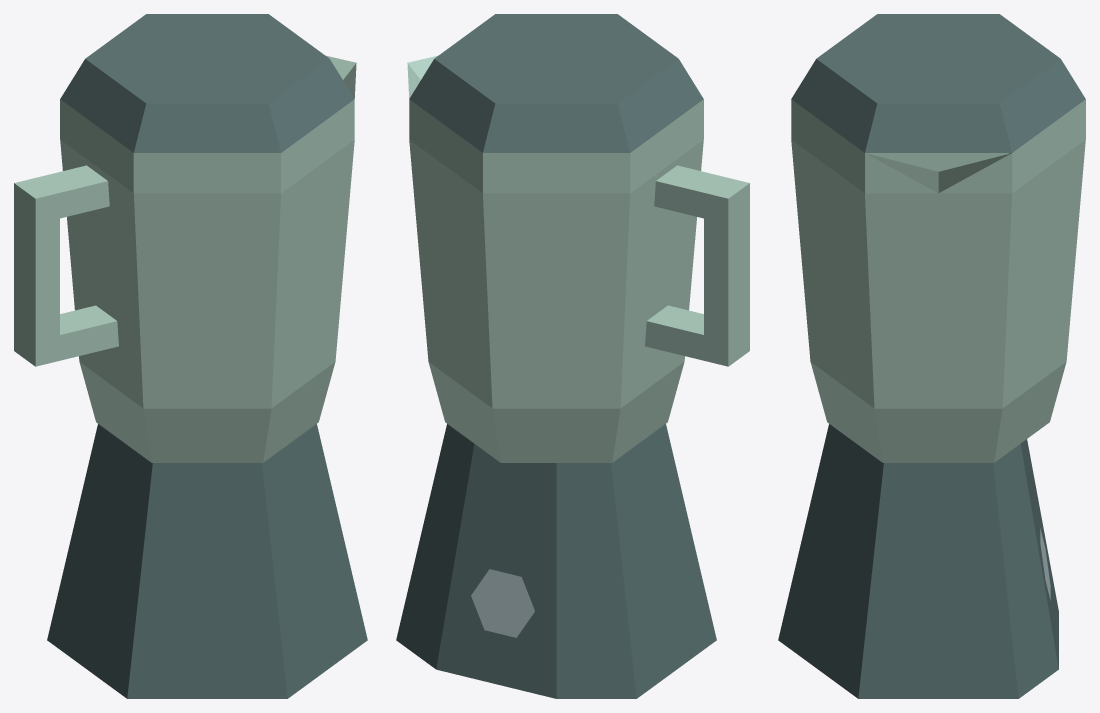
File: kitchenBlender.fbx
The picture shows the model from 3 angles, left to right: view 1: azimuth 30°, elevation 25°; view 2: azimuth 150°, elevation 25°; view 3: azimuth 270°, elevation 25°; orthographic projection.
Visible parts, largest first — view 1: blenderCup, kitchenBlender, blenderTop; view 2: blenderCup, kitchenBlender, blenderTop; view 3: blenderCup, kitchenBlender, blenderTop.
Boxes of the visible parts, x1,y1,x2,y2 form: blenderCup: (14, 55, 356, 462); kitchenBlender: (47, 424, 367, 698); blenderTop: (60, 14, 354, 152); blenderCup: (407, 55, 749, 462); kitchenBlender: (396, 424, 716, 698); blenderTop: (409, 14, 703, 152); blenderCup: (791, 99, 1085, 462); kitchenBlender: (778, 424, 1058, 698); blenderTop: (791, 14, 1085, 152).
Bounding box in the file's own units: 1.36 × 2.28 × 1.09.
